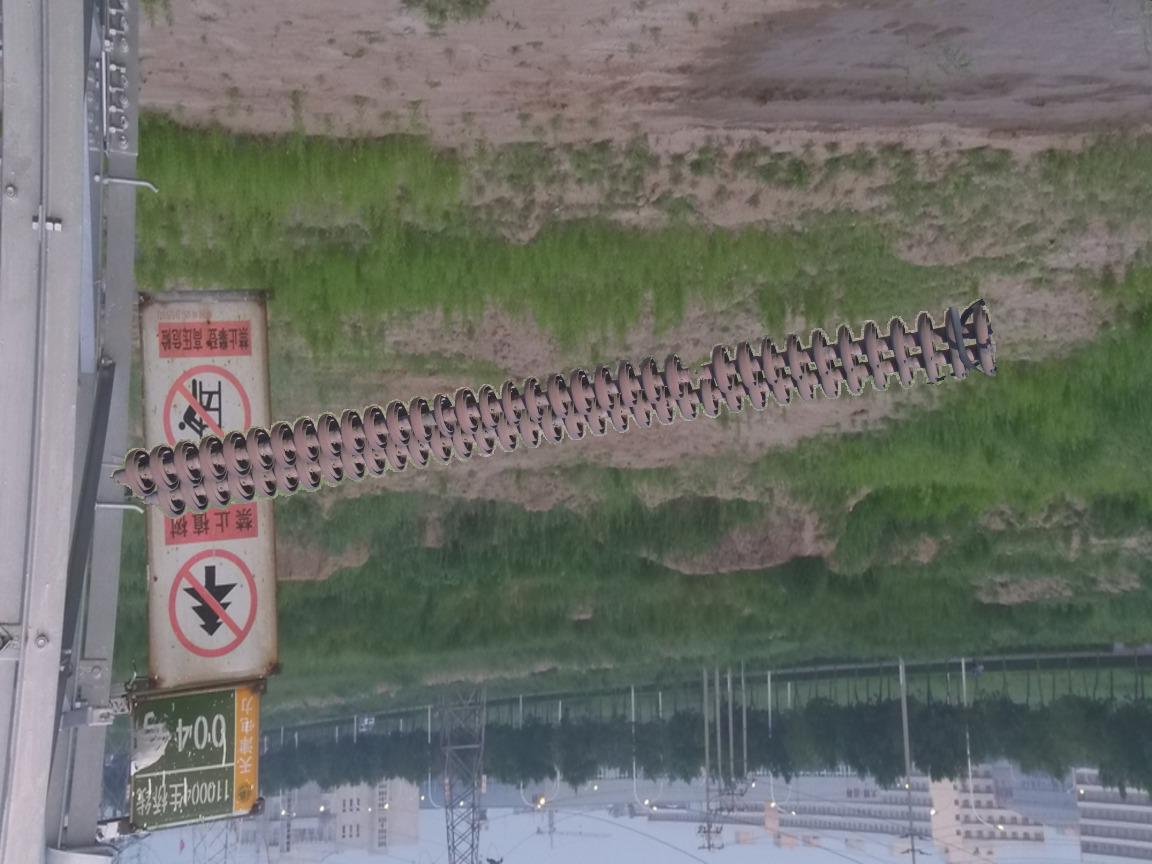insulator: (116, 303, 1008, 522)
insulator_stringdrop: (661, 343, 734, 405)
